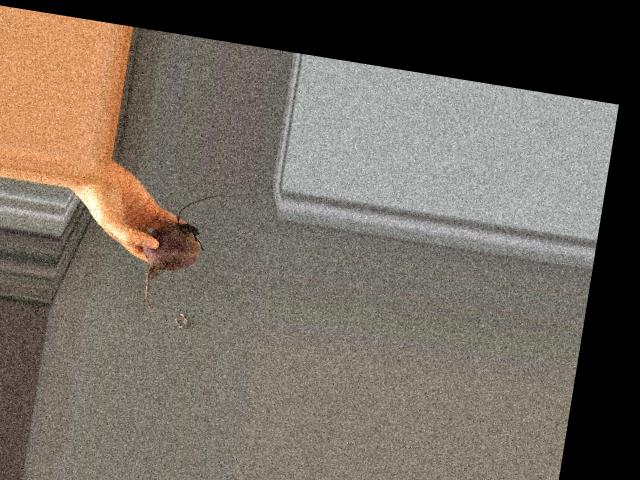beet: (132, 183, 232, 323)
